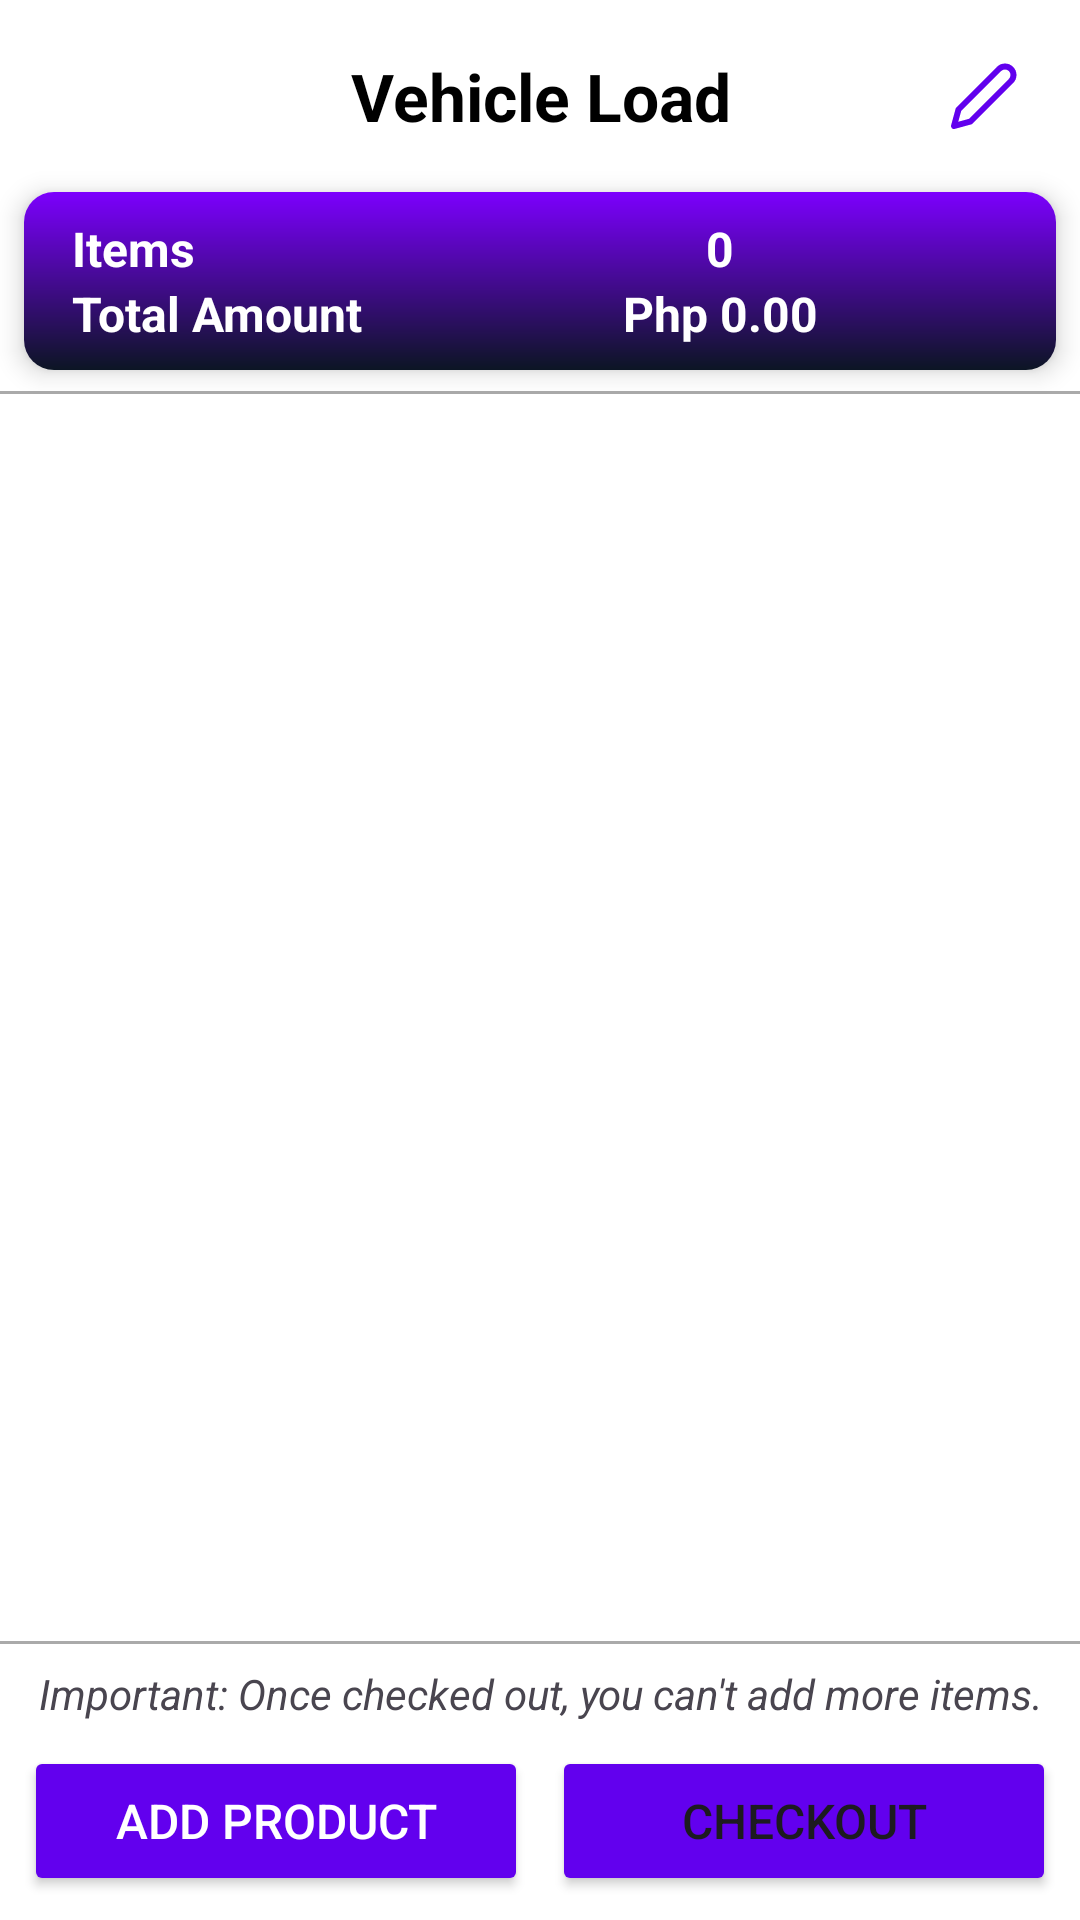

Named icons in this screenshot (1080px×1920px) and their centers, (x=x, y=y):
edit: (x=984, y=96)
